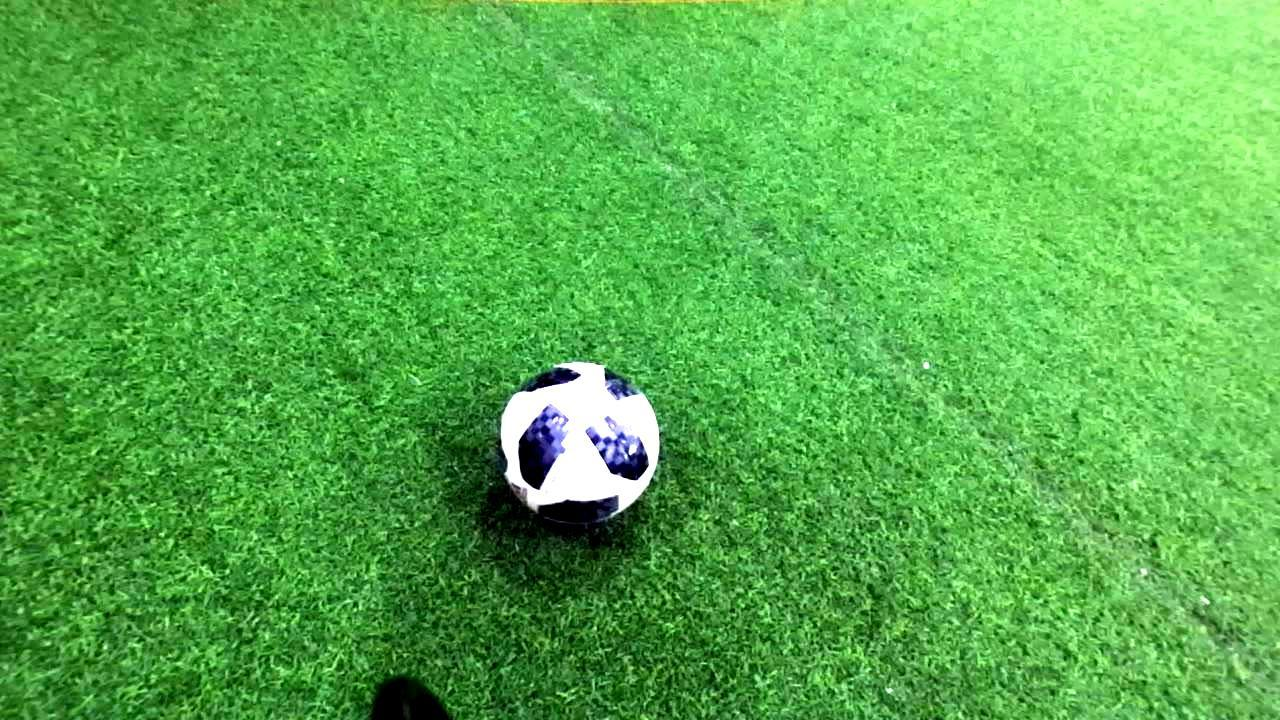ball: (493, 354, 662, 533)
